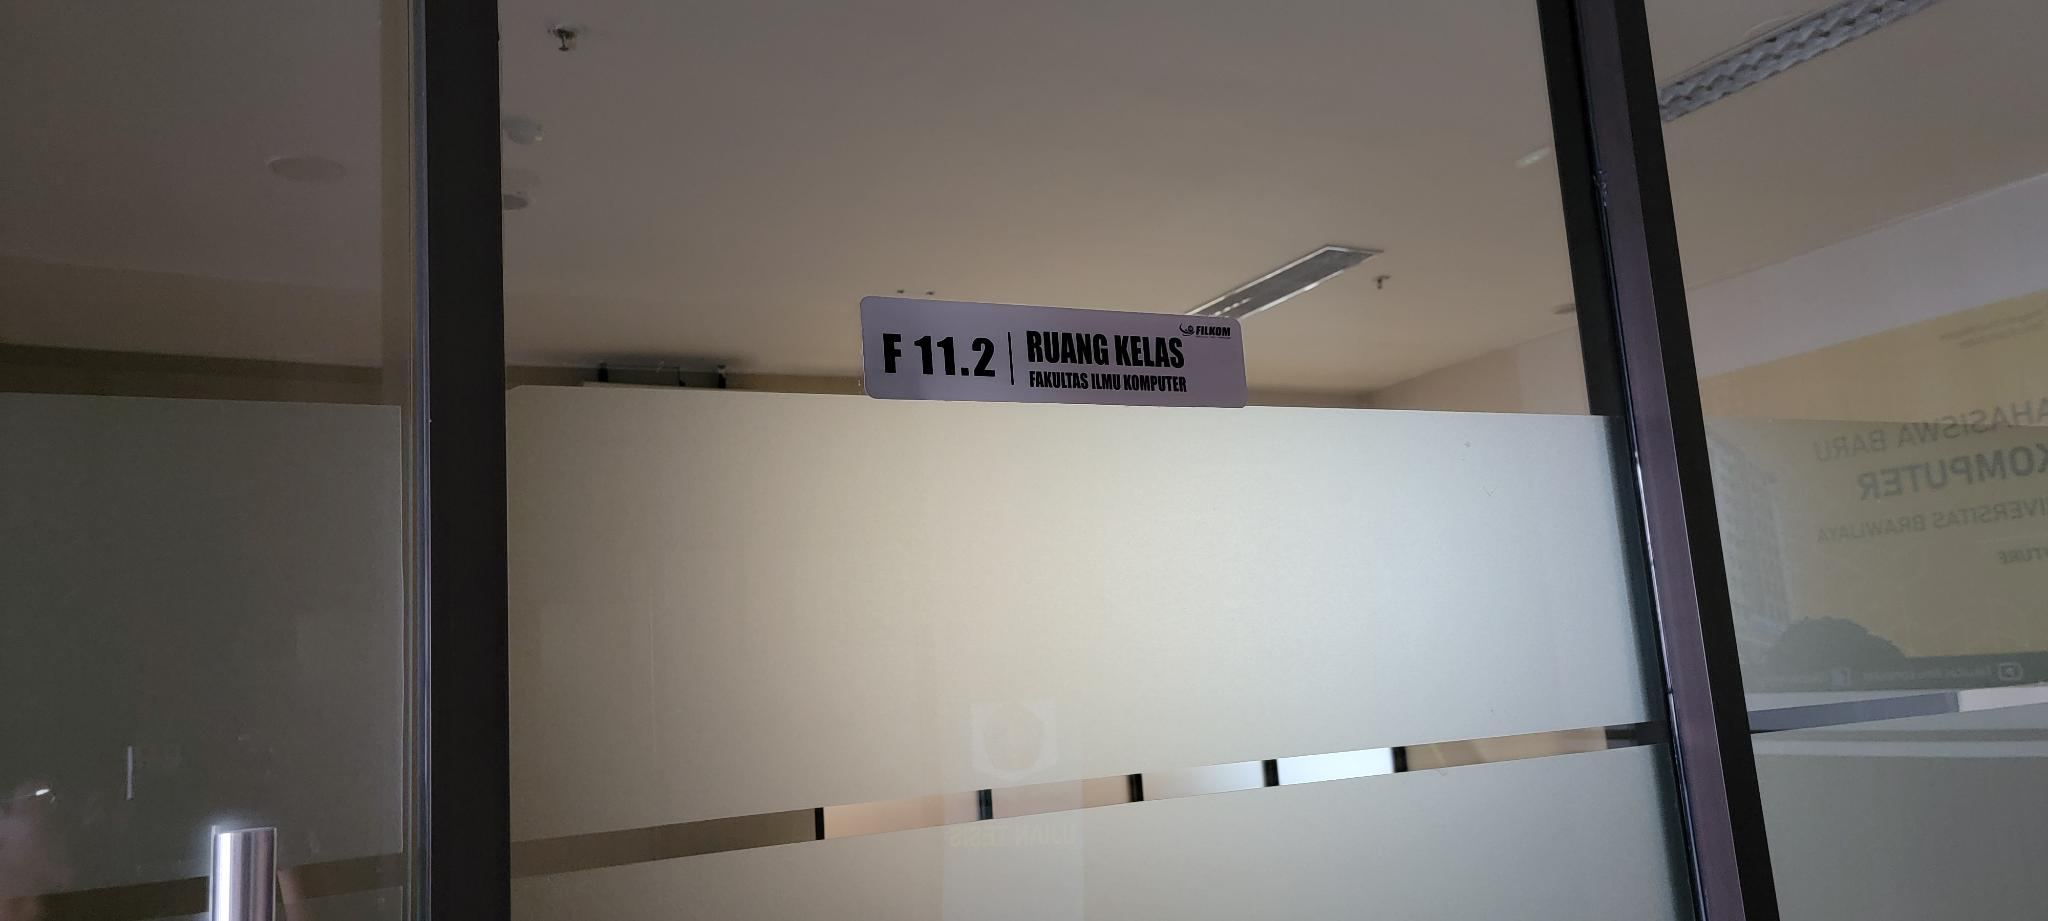plate: (859, 294, 1250, 410)
